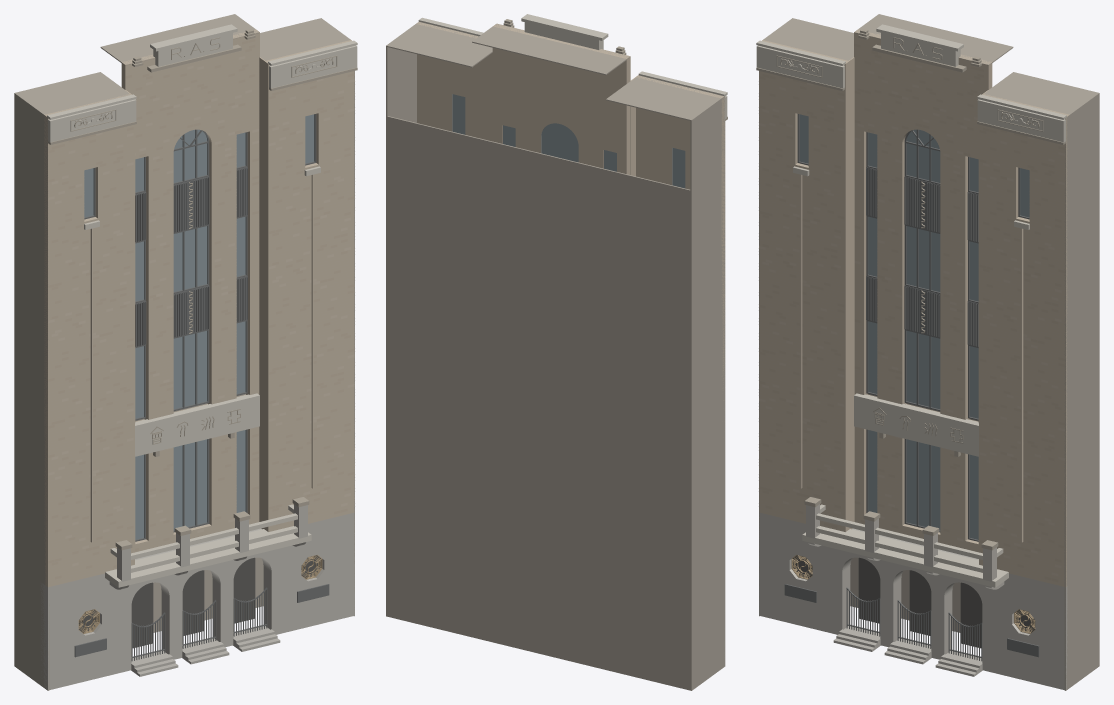
File: huangpu-royal-asiatic-society-huqiu-front-raw.glb
3 views of the same model, side by side, from view 1: azimuth 30°, elevation 25°; view 2: azimuth 150°, elevation 25°; view 3: azimuth 330°, elevation 25° (orthographic).
Parts seen in each view (by area): view 1: 原亚洲文会博物院虎丘路立面; view 2: 原亚洲文会博物院虎丘路立面; view 3: 原亚洲文会博物院虎丘路立面.
Part boxes in pixels (left/top/right/bottom): 原亚洲文会博物院虎丘路立面: left=14, top=14, right=357, bottom=690; 原亚洲文会博物院虎丘路立面: left=386, top=14, right=727, bottom=690; 原亚洲文会博物院虎丘路立面: left=756, top=14, right=1099, bottom=690.
Size of the model in its own units: 12.28 by 23.36 by 3.3.
